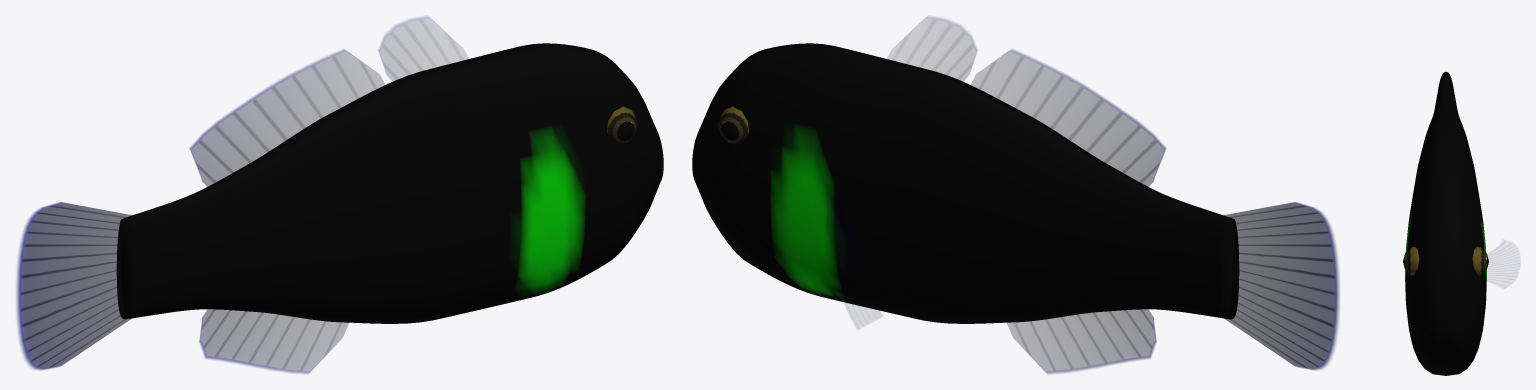
File: clown_goby.glb
The picture shows the model from 3 angles, left to right: view 1: azimuth 30°, elevation 25°; view 2: azimuth 150°, elevation 25°; view 3: azimuth 270°, elevation 25°; orthographic projection. The views are drawn at different scales.
Parts seen in each view (by area): view 1: Body, FinCaudal, FinDorsal2, FinAnal, FinDorsal, EyeR; view 2: Body, FinCaudal, FinDorsal2, FinAnal, FinDorsal, EyeL; view 3: Body, EyeL, EyeR.
Part boxes in pixels (left/top/right/bottom): Body: left=116, top=43, right=663, bottom=323; FinCaudal: left=16, top=202, right=133, bottom=370; FinDorsal2: left=189, top=49, right=386, bottom=187; FinAnal: left=199, top=309, right=348, bottom=373; FinDorsal: left=378, top=16, right=470, bottom=83; EyeR: left=607, top=106, right=637, bottom=143; Body: left=692, top=43, right=1239, bottom=323; FinCaudal: left=1222, top=202, right=1339, bottom=370; FinDorsal2: left=969, top=49, right=1166, bottom=187; FinAnal: left=1007, top=309, right=1156, bottom=373; FinDorsal: left=885, top=16, right=977, bottom=83; EyeL: left=718, top=106, right=748, bottom=143; Body: left=1405, top=72, right=1486, bottom=375; EyeL: left=1472, top=246, right=1488, bottom=275; EyeR: left=1403, top=246, right=1419, bottom=275.
Bounding box in the file's own units: 1 × 0.4951 × 0.2591.
Materials: 4 (3 with a texture image).
